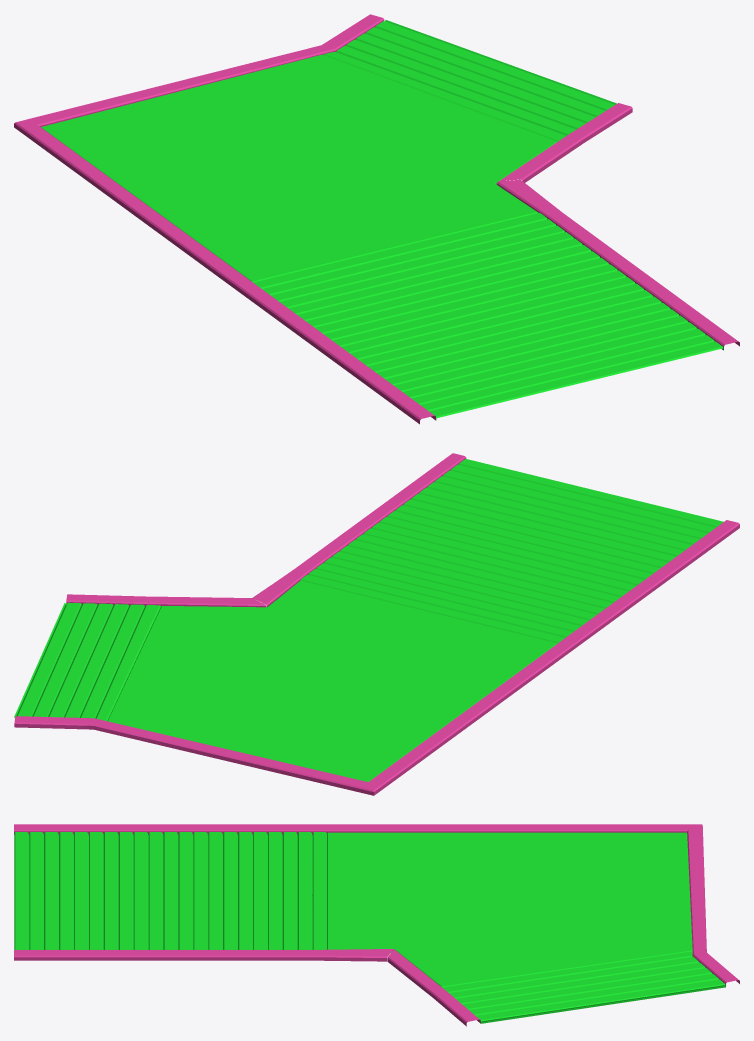
Rendered from Corner_Floor_2.fbx.
The picture shows the model from 3 angles, top to bottom: view 1: azimuth 30°, elevation 25°; view 2: azimuth 150°, elevation 25°; view 3: azimuth 270°, elevation 25°; orthographic projection. The views are drawn at different scales.
Visible parts, largest first — view 1: Floor.Corner.001; view 2: Floor.Corner.001; view 3: Floor.Corner.001.
Part boxes in pixels (box(x1,y1,x2,y2)): Floor.Corner.001: box(14, 14, 739, 424); Floor.Corner.001: box(14, 453, 739, 795); Floor.Corner.001: box(14, 824, 739, 1026).
Size of the model in its own units: 1499 by 16.05 by 2318.
